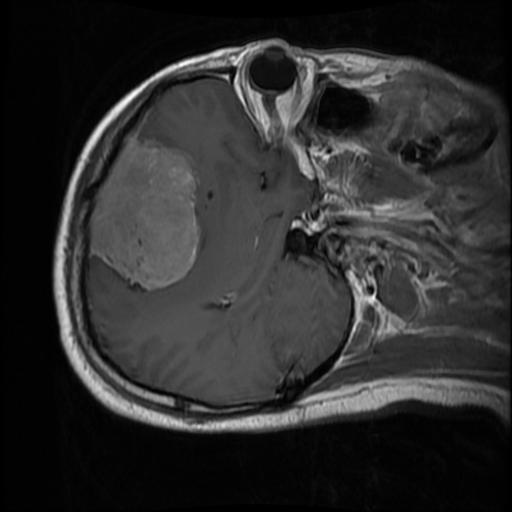meningioma: (89, 137, 201, 289)
